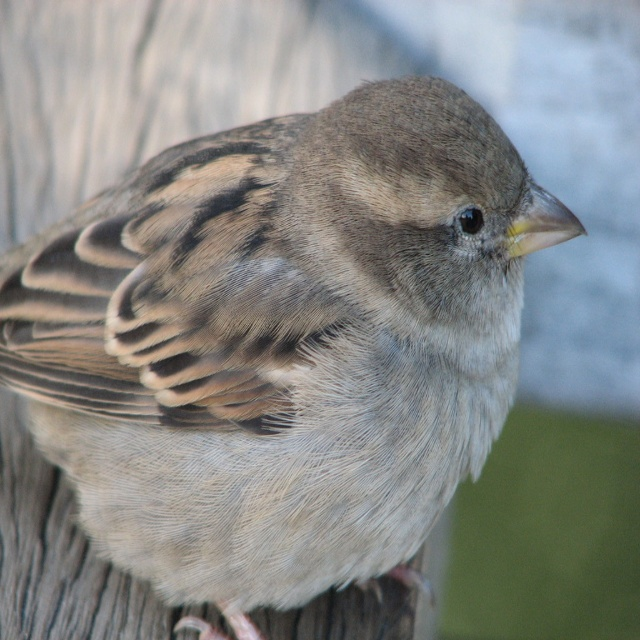Sparrow: (0, 72, 586, 639)
